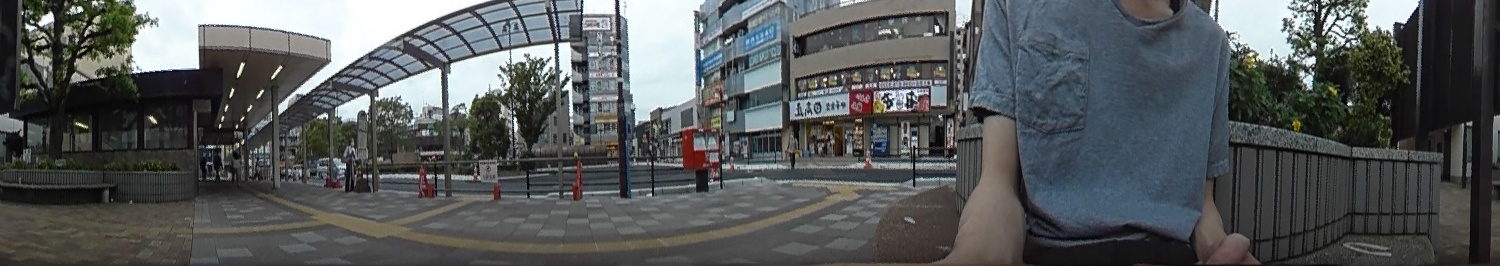difficult_person: (784, 129, 798, 164), (211, 149, 223, 181), (230, 150, 240, 181)
person: (344, 138, 357, 188)
